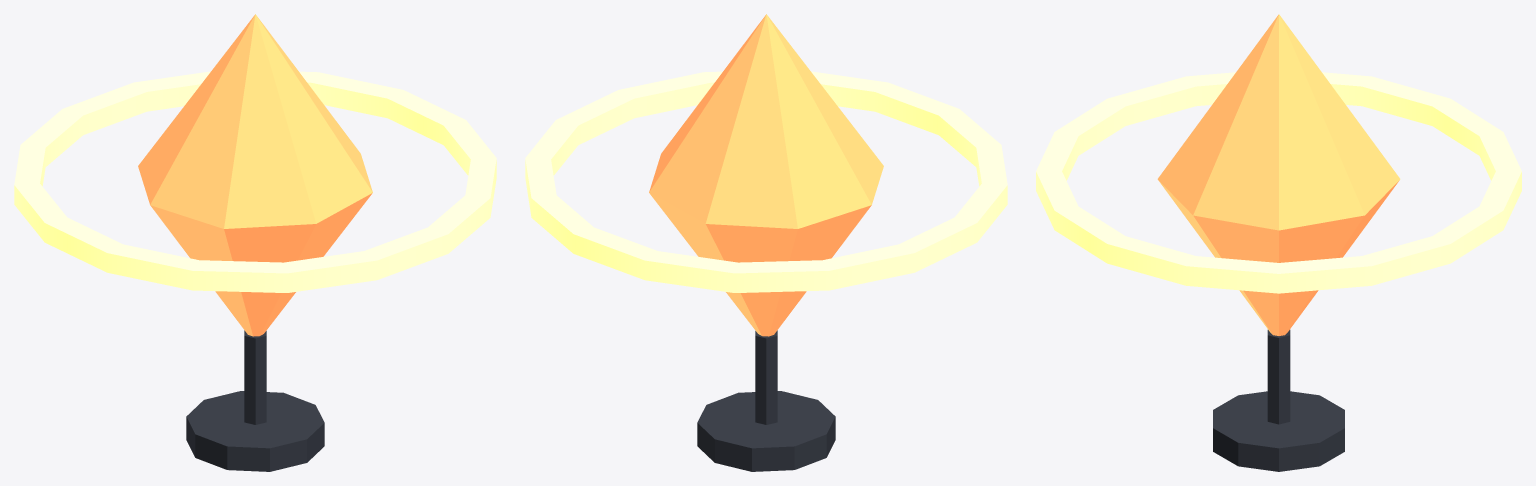
3 renders of one model, left to right at view 1: azimuth 30°, elevation 25°; view 2: azimuth 150°, elevation 25°; view 3: azimuth 270°, elevation 25°, orthographic.
Parts seen in each view (by area): view 1: vertical_reto.lod0; view 2: vertical_reto.lod0; view 3: vertical_reto.lod0.
Boxes of the visible parts, x1=… form: vertical_reto.lod0: x1=14, y1=14, x2=496, y2=471; vertical_reto.lod0: x1=525, y1=14, x2=1007, y2=471; vertical_reto.lod0: x1=1036, y1=14, x2=1521, y2=471.
Size of the model in its own units: 1.12 by 1.09 by 1.12.
